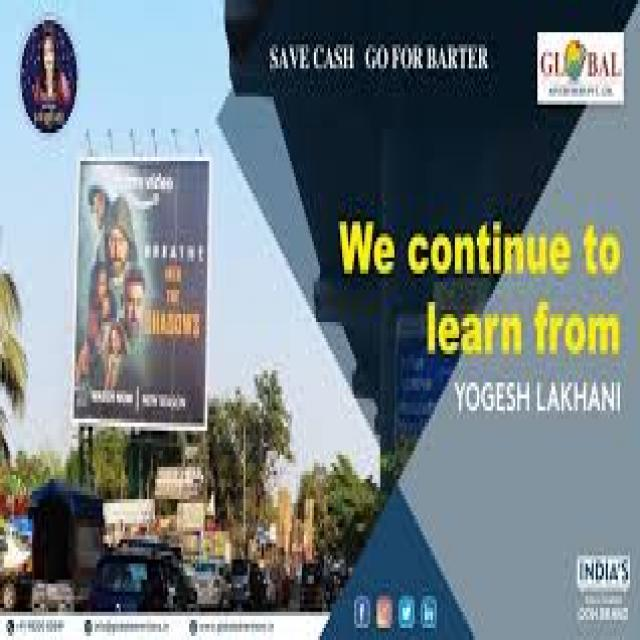Werbetafel frei: (74, 148, 208, 432)
